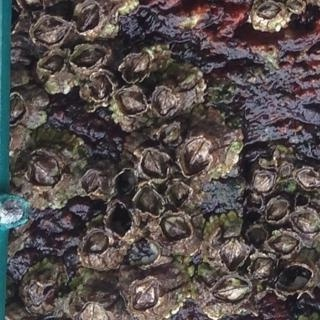Barnacle: (181, 137, 212, 177), (30, 151, 60, 186), (215, 274, 248, 303), (35, 16, 67, 44), (131, 280, 159, 312), (124, 51, 152, 82), (75, 3, 102, 33), (221, 240, 247, 268), (118, 90, 146, 115), (138, 186, 162, 215), (142, 151, 167, 178), (249, 256, 276, 281), (168, 181, 191, 210), (162, 216, 188, 241), (253, 0, 281, 23), (90, 73, 113, 101), (154, 88, 176, 117), (74, 47, 103, 68), (253, 170, 277, 195), (295, 211, 319, 235), (271, 232, 297, 254), (80, 300, 110, 319), (7, 96, 27, 124), (84, 231, 109, 253), (266, 198, 289, 221), (298, 166, 319, 191), (43, 53, 66, 74), (82, 173, 99, 197), (287, 0, 306, 13)
